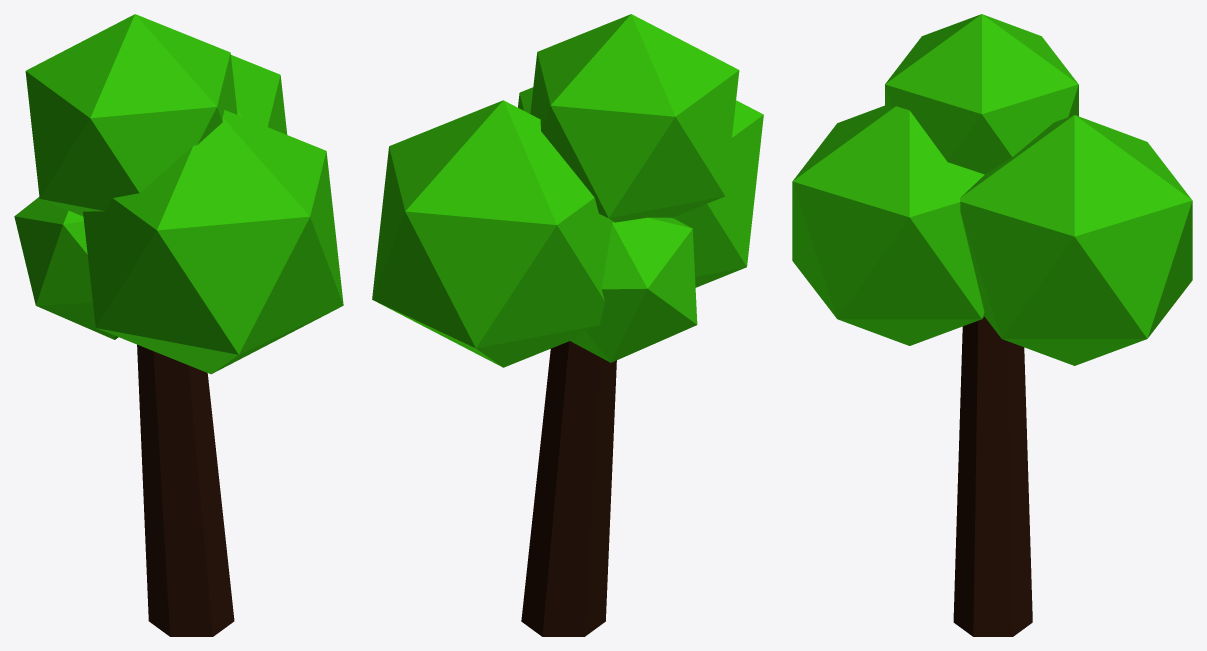
Rendered from Drzewo IV.FBX.
The picture shows the model from 3 angles, left to right: view 1: azimuth 30°, elevation 25°; view 2: azimuth 150°, elevation 25°; view 3: azimuth 270°, elevation 25°; orthographic projection. The views are drawn at different scales.
Parts seen in each view (by area): view 1: Cylinder, Object001; view 2: Cylinder, Object001; view 3: Cylinder, Object001.
Boxes of the visible parts, x1=… form: Cylinder: x1=14, y1=14, x2=343, y2=374; Object001: x1=137, y1=344, x2=234, y2=636; Cylinder: x1=372, y1=14, x2=763, y2=367; Object001: x1=521, y1=341, x2=616, y2=636; Cylinder: x1=792, y1=14, x2=1192, y2=365; Object001: x1=953, y1=316, x2=1032, y2=636.
Size of the model in its own units: 30.58 by 62.94 by 39.33.
